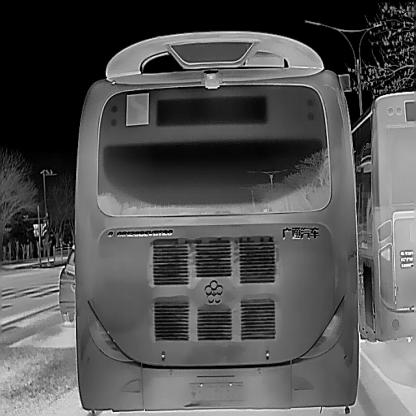bus: (73, 25, 359, 411), (350, 90, 416, 343)
car: (57, 243, 76, 322)
